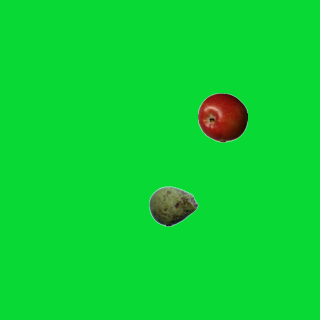Apple Braeburn: (197, 92, 247, 142)
Pear Stone: (148, 181, 198, 231)
